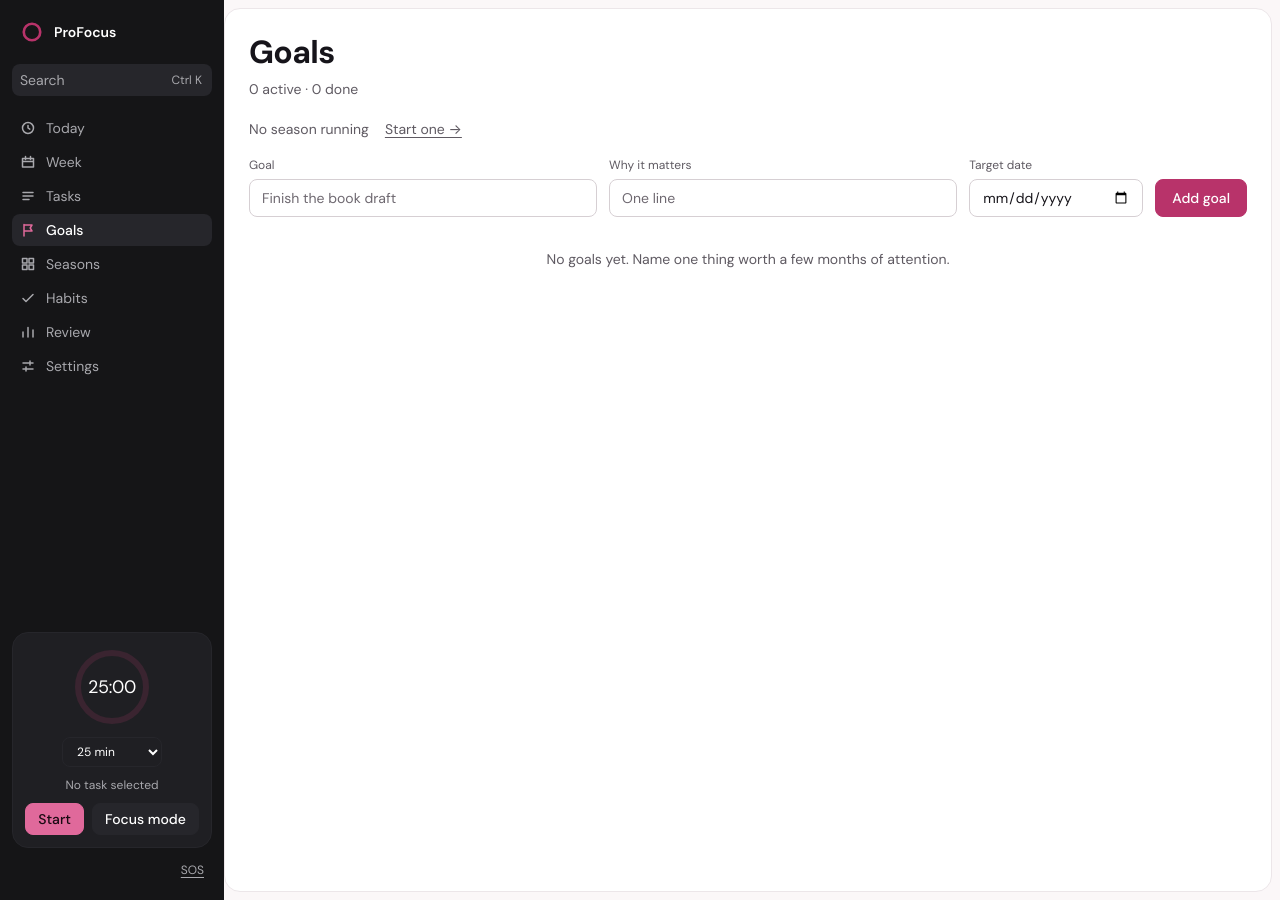
Scenario: Goals › adds a goal and lists it with its progress line
The image size is (1280, 900).
expect the heading "Goals" is shown: met, box [249,31,334,73]
Type "Run a half marathon" into the field labelled "Goal" at (423, 198), box [249,179,597,217]
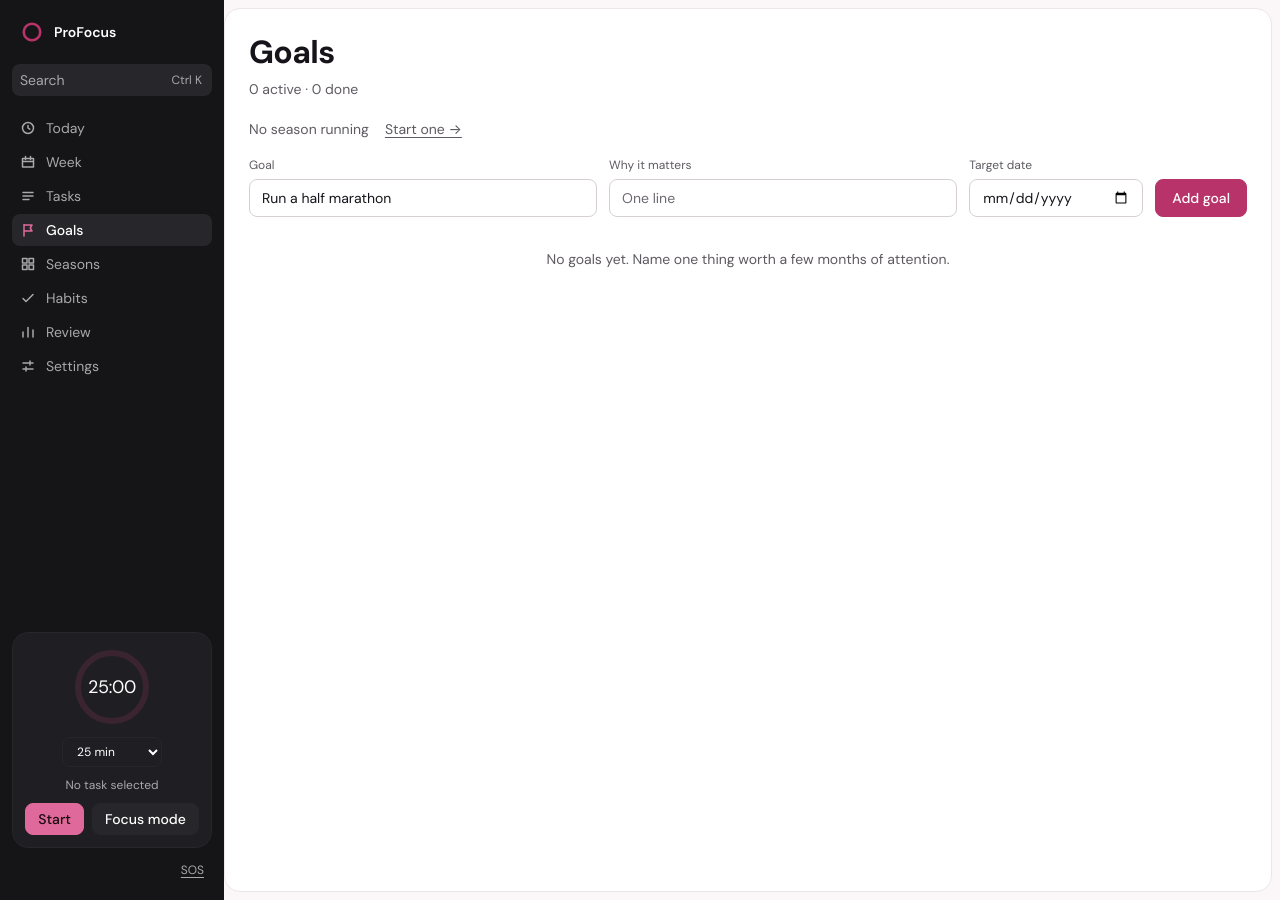
Type "Energy for the long days" into the field labelled "Why it matters" at (783, 198), box [609,179,957,217]
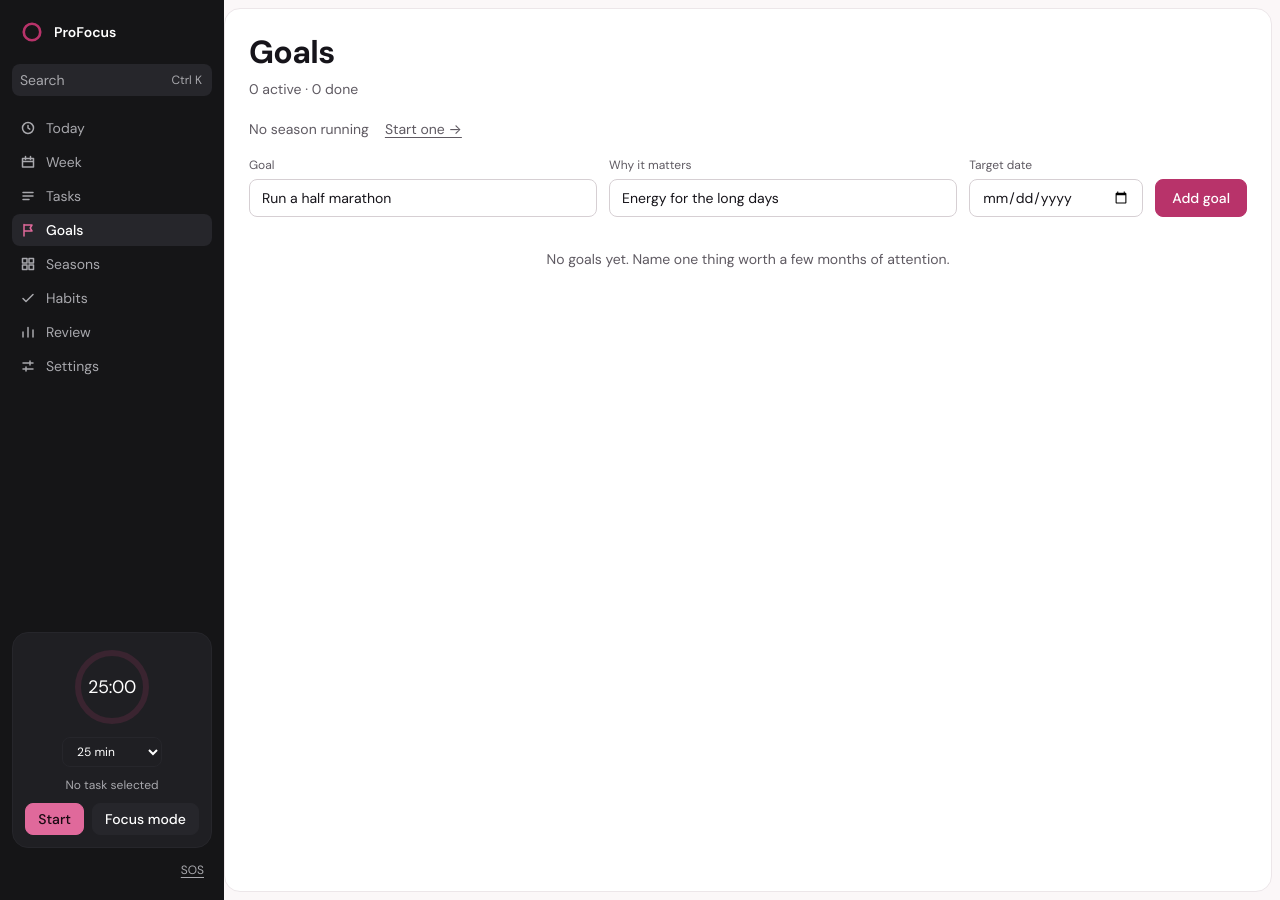
Type "2027-03-01" into the date field labelled "Target date" at (1056, 198), box [969,179,1143,217]
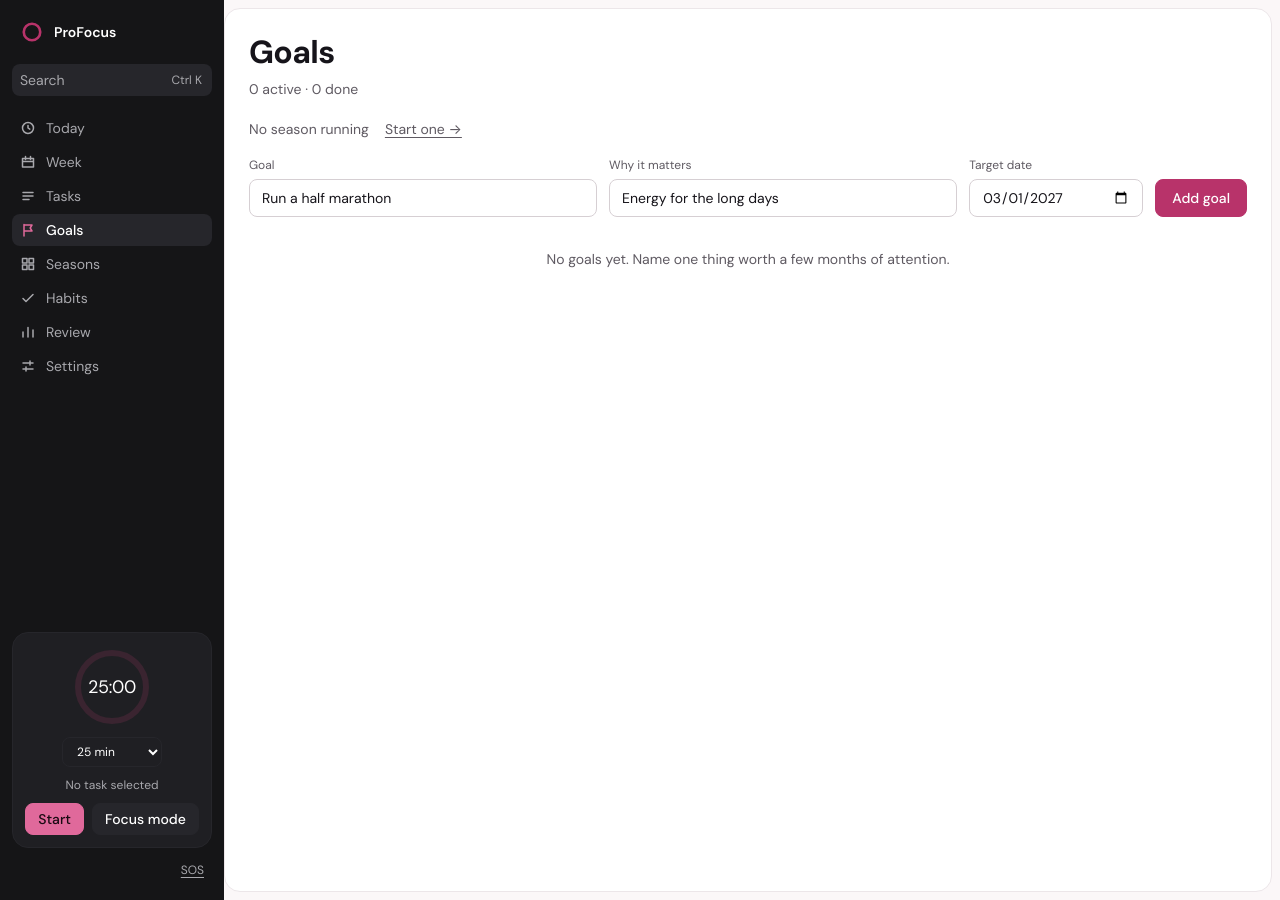
Click the button "Add goal" at (1201, 198), box [1155,179,1247,217]
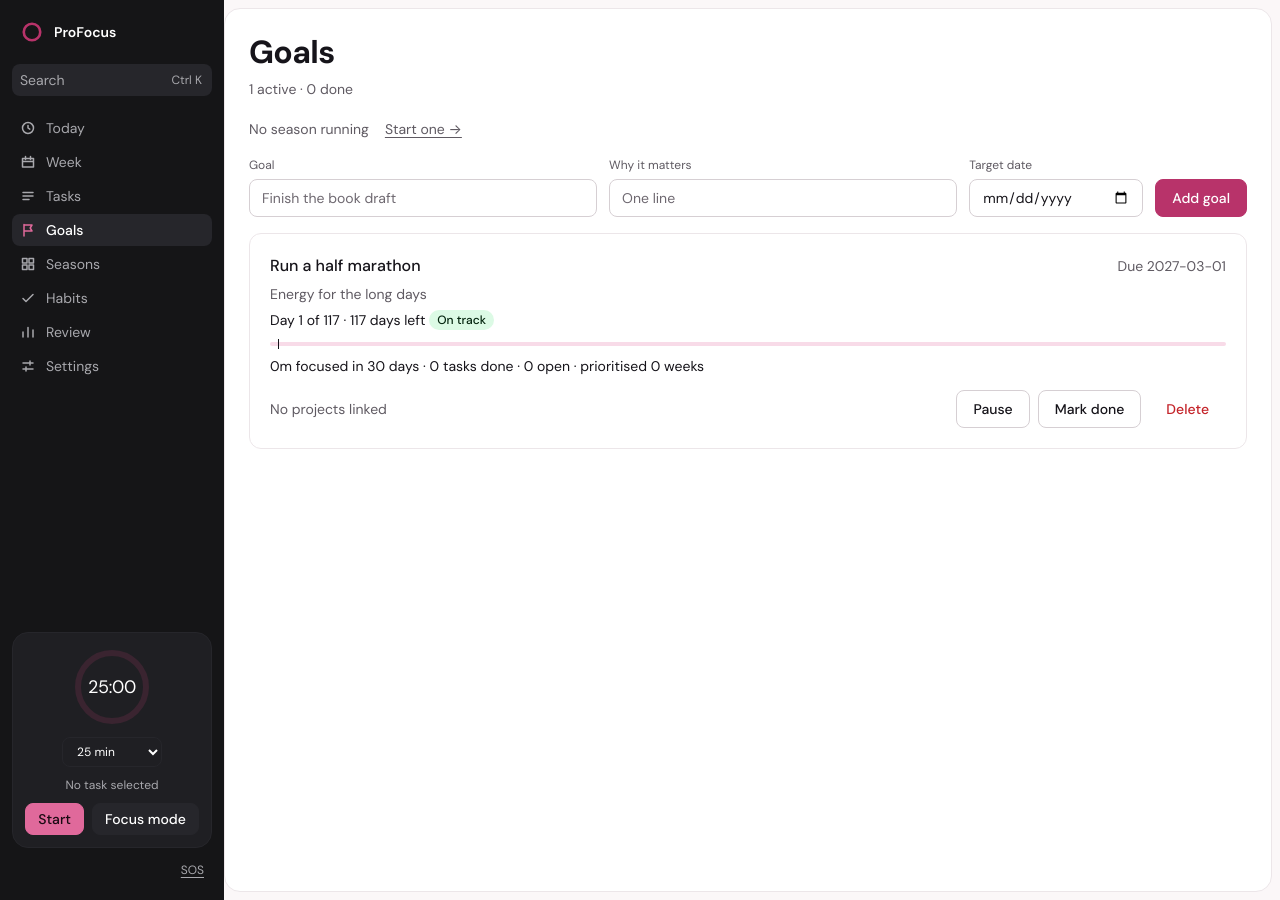
expect the heading "Run a half marathon" is shown: met, box [270,254,420,278]
expect the text "Due 2027-03-01" is shown: met, box [1118,256,1226,276]
expect the text "0m focused in 30 days · 0 tasks done · 0 open · prioritised 0 weeks" is shown: met, box [270,357,704,375]
